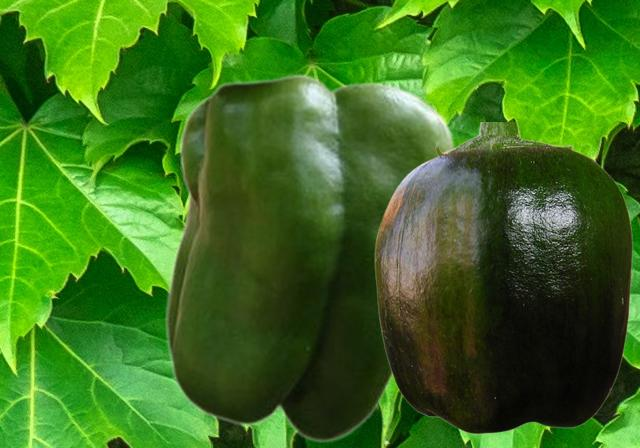bell_pepper: (164, 73, 455, 442), (374, 122, 632, 433)
